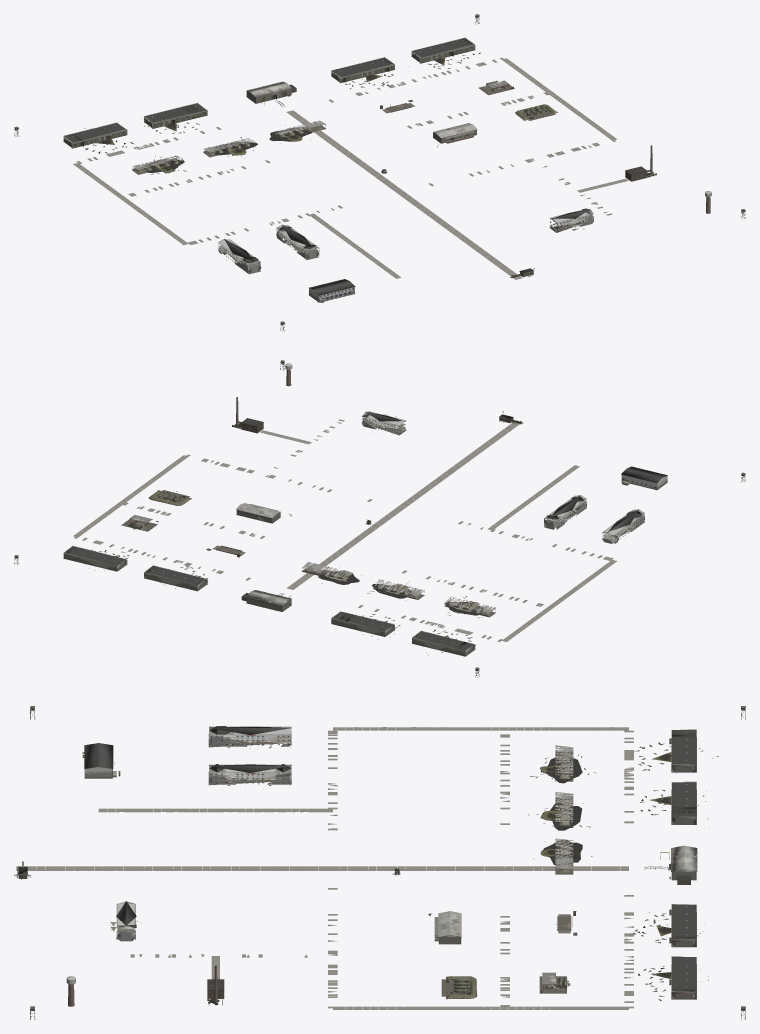
The model's file is site_park_city_lo.glb.
The picture shows the model from 3 angles, top to bottom: view 1: azimuth 30°, elevation 25°; view 2: azimuth 150°, elevation 25°; view 3: azimuth 270°, elevation 25°; orthographic projection. The views are drawn at different scales.
Parts seen in each view (by area): view 1: deco|tile_conc, b_box1|A_A, b_box3|A_A, b_box4|A_A, b_box2|A_A, b_pto|A_A, b_canteen|A_A, b_store|A_A, b_hq|A_A, b_barracks2|A_A, b_barracks1|A_A; view 2: deco|tile_conc, b_box4|A_A, b_box3|A_A, b_box2|A_A, b_box1|A_A, b_canteen|A_A, b_pto|A_A, b_store|A_A, b_hq|A_A, b_barracks2|A_A; view 3: deco|tile_conc, b_barracks1|A_A, b_barracks2|A_A, b_canteen|A_A, b_box1|A_A, b_box3|A_A, b_box4|A_A, b_pto|A_A, b_box2|A_A, b_store|A_A, b_shelter1_ruin|A_B, b_shelter2_ruin|A_B (+8 smaller).
Boxes of the visible parts, box(x1,y1,x2,y2) form: deco|tile_conc: box(73, 57, 628, 279); b_box1|A_A: box(63, 122, 127, 148); b_box3|A_A: box(331, 57, 394, 82); b_box4|A_A: box(411, 37, 475, 63); b_box2|A_A: box(144, 103, 207, 128); b_pto|A_A: box(246, 81, 296, 107); b_canteen|A_A: box(308, 279, 355, 302); b_store|A_A: box(433, 123, 477, 143); b_hq|A_A: box(549, 209, 593, 232); b_barracks2|A_A: box(276, 224, 319, 259); b_barracks1|A_A: box(218, 239, 260, 274); deco|tile_conc: box(73, 419, 616, 641); b_box4|A_A: box(63, 546, 127, 571); b_box3|A_A: box(144, 565, 207, 591); b_box2|A_A: box(331, 611, 394, 636); b_box1|A_A: box(411, 630, 475, 656); b_canteen|A_A: box(621, 466, 667, 490); b_pto|A_A: box(241, 590, 291, 611); b_store|A_A: box(236, 503, 280, 523); b_hq|A_A: box(362, 411, 406, 435); b_barracks2|A_A: box(544, 495, 586, 527); deco|tile_conc: box(16, 727, 633, 1009); b_barracks1|A_A: box(208, 726, 291, 748); b_barracks2|A_A: box(208, 764, 291, 785); b_canteen|A_A: box(82, 743, 120, 778); b_box1|A_A: box(669, 729, 696, 772); b_box3|A_A: box(669, 904, 696, 946); b_box4|A_A: box(669, 956, 696, 999); b_pto|A_A: box(644, 845, 697, 884); b_box2|A_A: box(669, 781, 696, 824); b_store|A_A: box(434, 911, 461, 944); b_shelter1_ruin|A_B: box(530, 745, 596, 783); b_shelter2_ruin|A_B: box(528, 792, 590, 830).
Size of the model in its own units: 520 by 30.44 by 531.
Materials: 57 (40 with a texture image).
